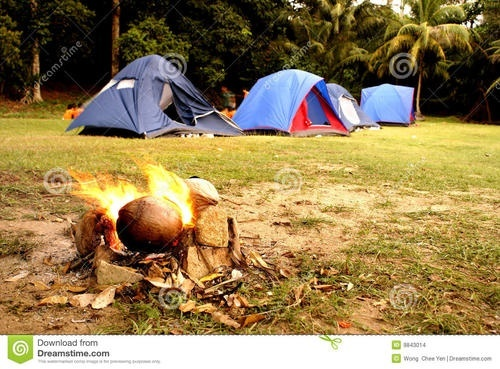fire: (67, 163, 197, 245)
